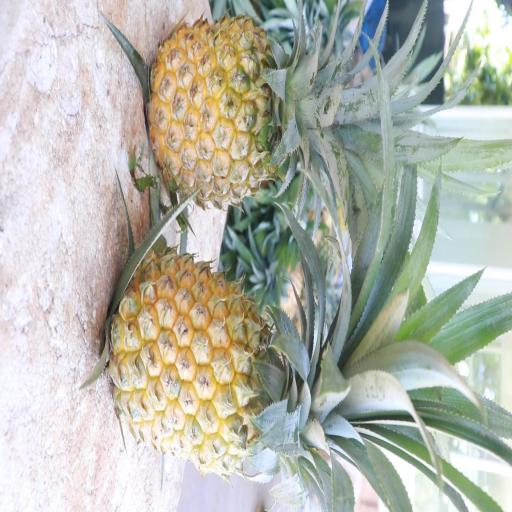Pineapple - v8 v1: (106, 248, 366, 479), (142, 11, 348, 210)
